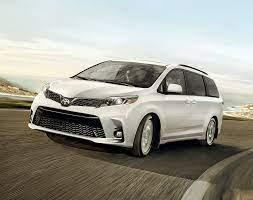Minivan: (29, 61, 224, 157)
